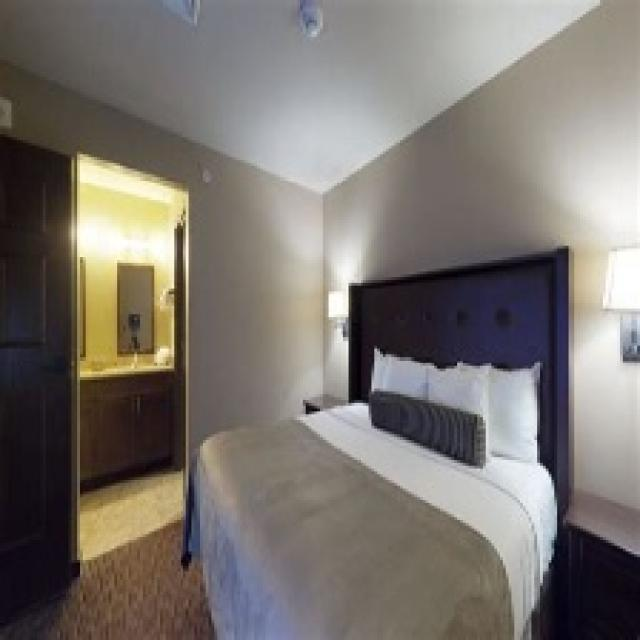Bed: (180, 243, 571, 637)
